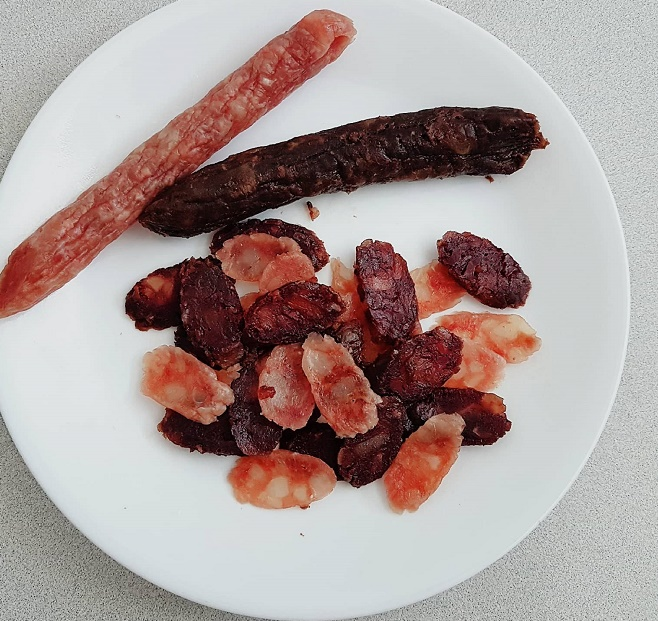chinese_sausage: (377, 414, 454, 507), (306, 351, 376, 440), (435, 305, 535, 361), (181, 262, 233, 364), (220, 456, 331, 503), (150, 356, 237, 411), (215, 219, 342, 256), (394, 338, 472, 397), (258, 286, 349, 336), (364, 245, 414, 332), (222, 232, 298, 289), (409, 401, 529, 437), (396, 270, 485, 317), (344, 406, 397, 484), (447, 249, 518, 305), (261, 356, 308, 439), (434, 345, 518, 389), (177, 405, 247, 456), (324, 268, 370, 339), (122, 265, 182, 316), (262, 261, 325, 296)
